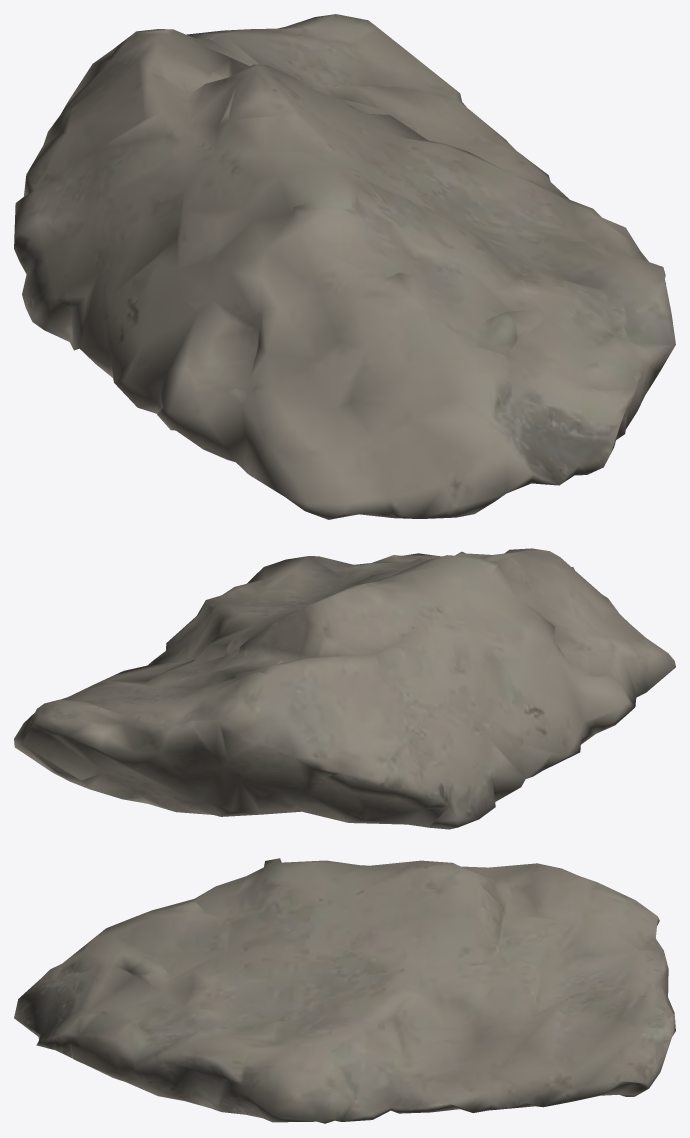
Rendered from moon_rock_04.glb.
3 views of the same model, one above another, from view 1: azimuth 30°, elevation 25°; view 2: azimuth 150°, elevation 25°; view 3: azimuth 270°, elevation 25° (orthographic). The views are drawn at different scales.
Parts seen in each view (by area): view 1: moon_rock_04_LOD0; view 2: moon_rock_04_LOD0; view 3: moon_rock_04_LOD0.
Boxes of the visible parts, left/top/right/bottom form: moon_rock_04_LOD0: left=14, top=14, right=675, bottom=519; moon_rock_04_LOD0: left=14, top=548, right=675, bottom=829; moon_rock_04_LOD0: left=14, top=858, right=675, bottom=1123.
Bounding box in the file's own units: 0.1197 × 0.0535 × 0.1738.
1 material, 1 textured.
